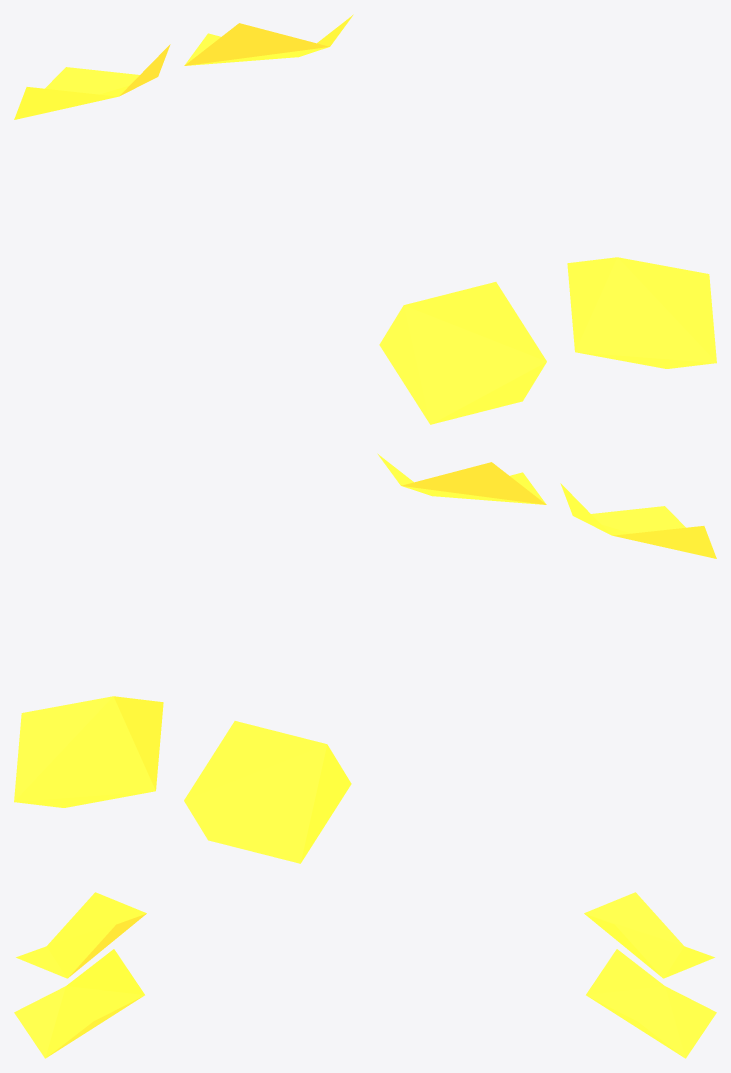
Rendered from CandleLight_ChT_02.fbx.
The picture shows the model from 3 angles, top to bottom: view 1: azimuth 30°, elevation 25°; view 2: azimuth 150°, elevation 25°; view 3: azimuth 270°, elevation 25°; orthographic projection. The views are drawn at different scales.
Parts seen in each view (by area): view 1: CandleLight_ChT_02; view 2: CandleLight_ChT_02; view 3: CandleLight_ChT_02.
Part boxes in pixels (x1,y1,x2,y2): CandleLight_ChT_02: (14, 14, 716, 424); CandleLight_ChT_02: (14, 453, 716, 863); CandleLight_ChT_02: (14, 892, 716, 1058).
Bounding box in the file's own units: 168 × 45.17 × 406.
